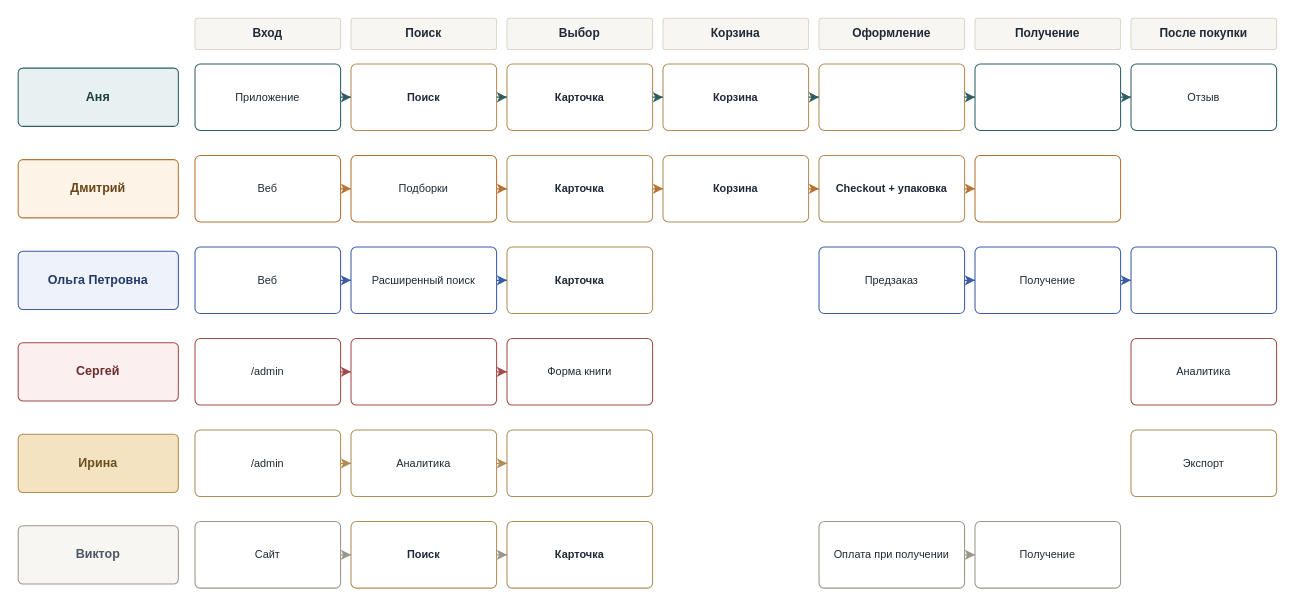
This 1295x606 diagram has some shape labels left out. The shapes that lost their labels are listed below. From the top down, each one's centre as x and y in pixels, then its label:
(891,97): Checkout + карта
(1047,97): Push о статусе
(1047,188): Уведомление
(1203,280): Подписка
(423,371): Каталог
(579,463): Отчёт
